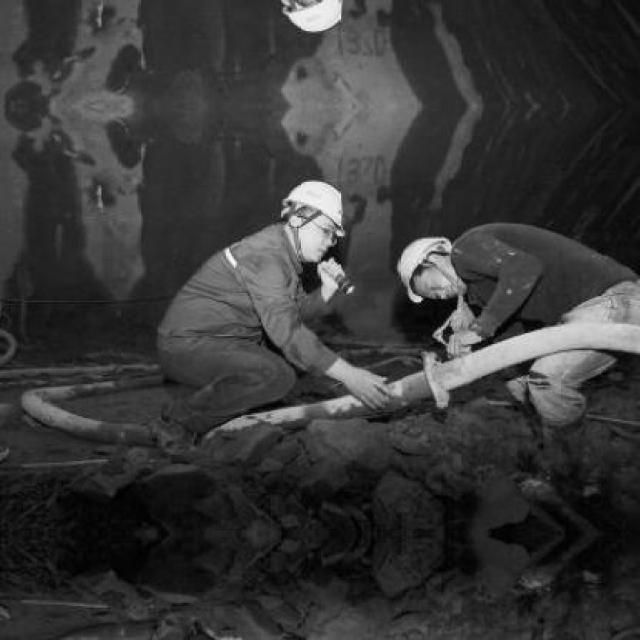helmet: (271, 168, 357, 262), (396, 232, 466, 303), (271, 0, 358, 45)
